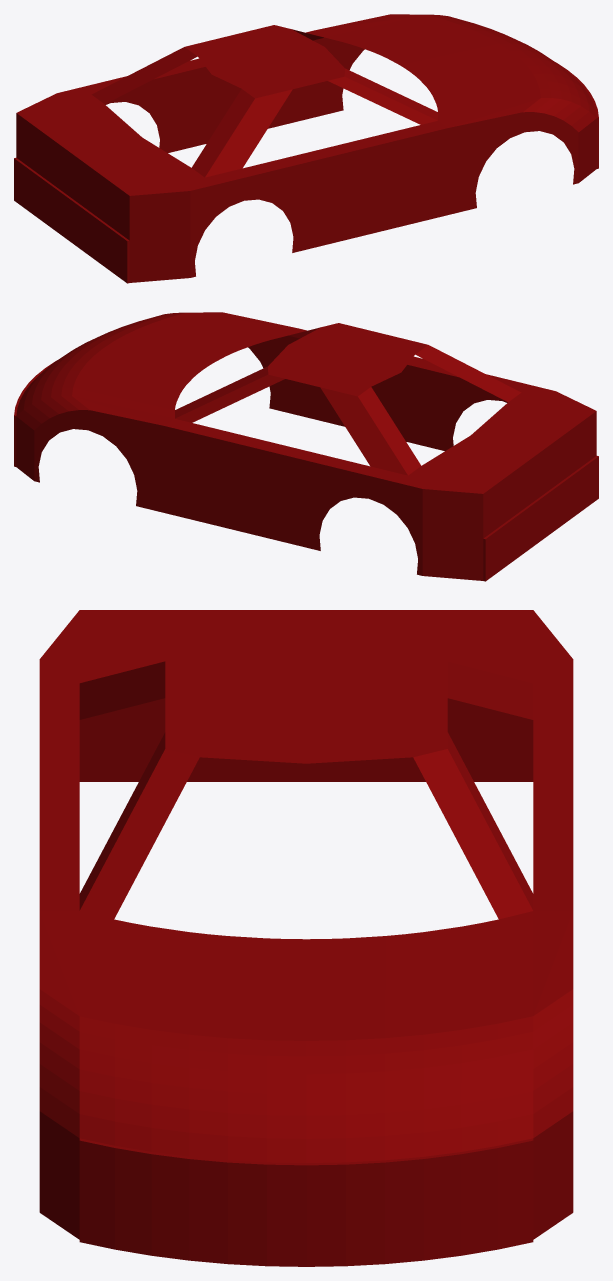
The model's file is autonomos.dae.
The picture shows the model from 3 angles, top to bottom: view 1: azimuth 30°, elevation 25°; view 2: azimuth 150°, elevation 25°; view 3: azimuth 270°, elevation 25°; orthographic projection. The views are drawn at different scales.
Visible parts, largest first — view 1: half_car (×2); view 2: half_car (×2); view 3: half_car (×2).
Boxes of the visible parts, x1=… form: half_car (×2): x1=14, y1=14, x2=598, y2=283; half_car (×2): x1=14, y1=312, x2=598, y2=581; half_car (×2): x1=39, y1=610, x2=573, y2=1266.
Size of the model in its own units: 16.93 by 7.87 by 4.33.
